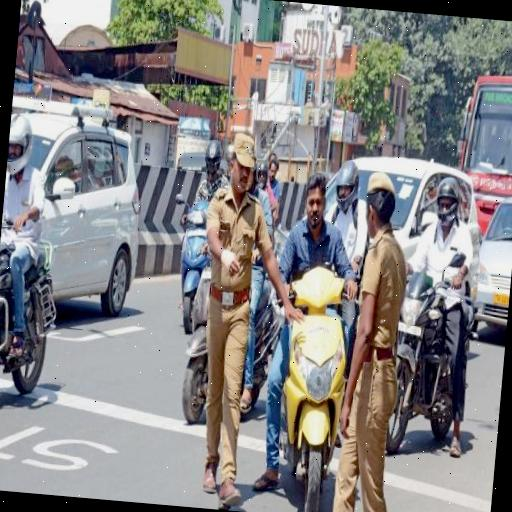helmet: (382, 165, 485, 502), (0, 92, 68, 415)
no helmet: (251, 157, 356, 512)
